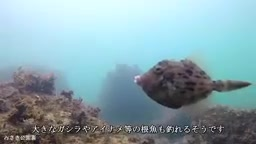kawahagi: (130, 55, 254, 112)
